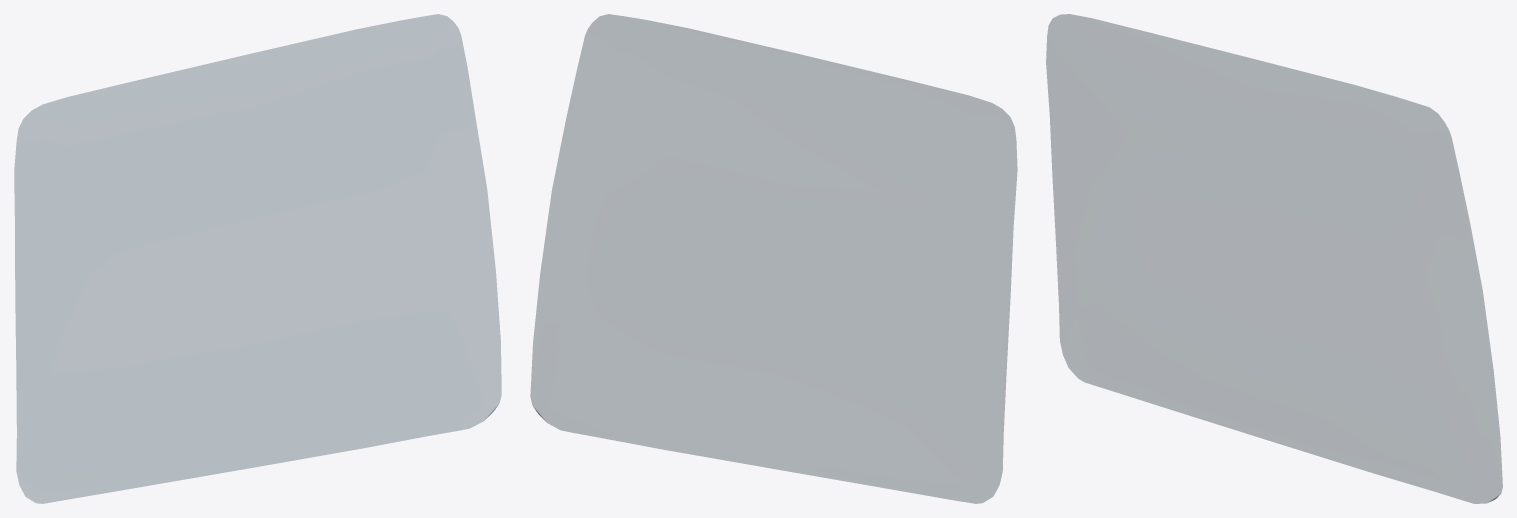
3 views of the same model, side by side, from view 1: azimuth 30°, elevation 25°; view 2: azimuth 150°, elevation 25°; view 3: azimuth 330°, elevation 25° (orthographic). The views are drawn at different scales.
Parts seen in each view (by area): view 1: SM_EuropeanHGV_Door_FL_Glass_Int1; view 2: SM_EuropeanHGV_Door_FL_Glass_Int1; view 3: SM_EuropeanHGV_Door_FL_Glass_Int1.
Part boxes in pixels (x1,y1,x2,y2): SM_EuropeanHGV_Door_FL_Glass_Int1: [14, 14, 501, 503]; SM_EuropeanHGV_Door_FL_Glass_Int1: [530, 14, 1017, 503]; SM_EuropeanHGV_Door_FL_Glass_Int1: [1046, 14, 1502, 503].
Bounding box in the file's own units: 0.9626 × 0.8157 × 0.0325.
